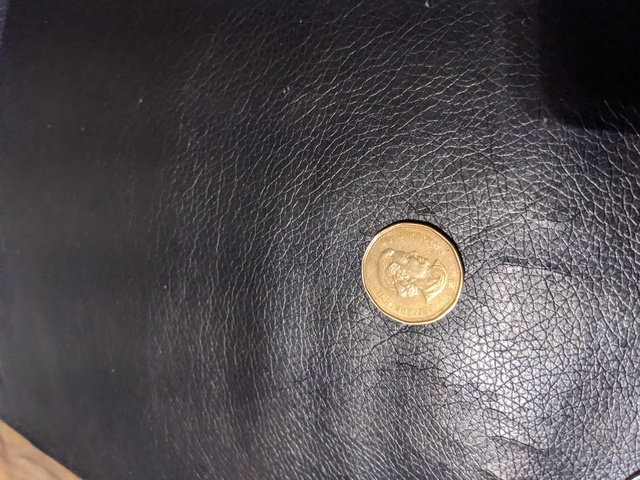loonie: (351, 205, 462, 326)
